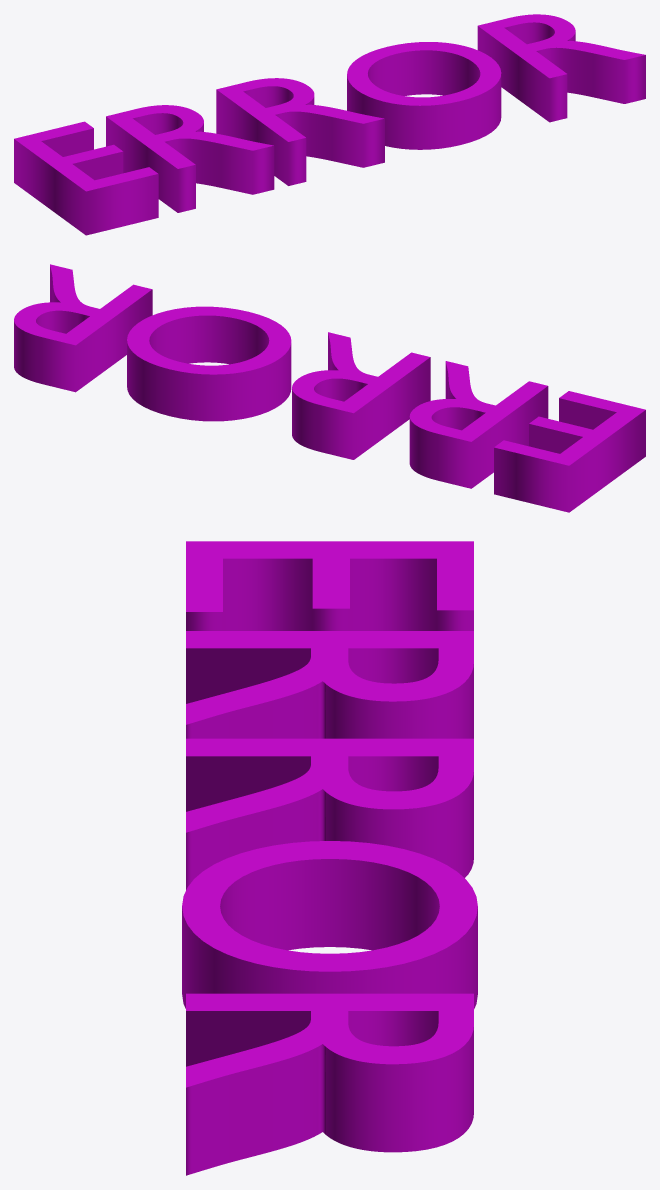
File: error.gltf
The picture shows the model from 3 angles, top to bottom: view 1: azimuth 30°, elevation 25°; view 2: azimuth 150°, elevation 25°; view 3: azimuth 270°, elevation 25°; orthographic projection. The views are drawn at different scales.
Visible parts, largest first — view 1: Text; view 2: Text; view 3: Text.
Part boxes in pixels (left/top/right/bottom): Text: left=14, top=14, right=645, bottom=235; Text: left=14, top=264, right=645, bottom=512; Text: left=182, top=541, right=477, bottom=1175.
Size of the model in its own units: 6.12 by 0.46 by 1.4.
